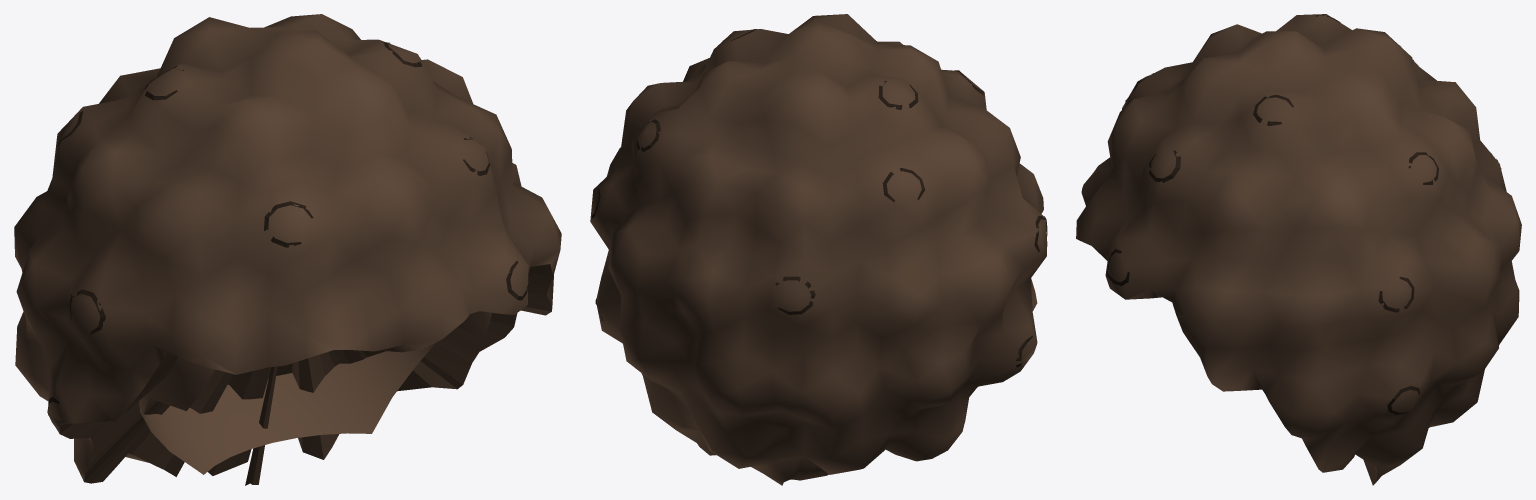
The model's file is hair-halo.glb.
3 renders of one model, left to right at view 1: azimuth 30°, elevation 25°; view 2: azimuth 150°, elevation 25°; view 3: azimuth 270°, elevation 25°, orthographic. The views are drawn at different scales.
Parts seen in each view (by area): view 1: hair-halo_ref2_hair-halo__head_mesh; view 2: hair-halo_ref2_hair-halo__head_mesh; view 3: hair-halo_ref2_hair-halo__head_mesh.
Part boxes in pixels (x1,y1,x2,y2): hair-halo_ref2_hair-halo__head_mesh: (14, 14, 561, 485); hair-halo_ref2_hair-halo__head_mesh: (590, 14, 1047, 485); hair-halo_ref2_hair-halo__head_mesh: (1076, 14, 1521, 485).
Bounding box in the file's own units: 0.6043 × 0.5842 × 0.5616.
